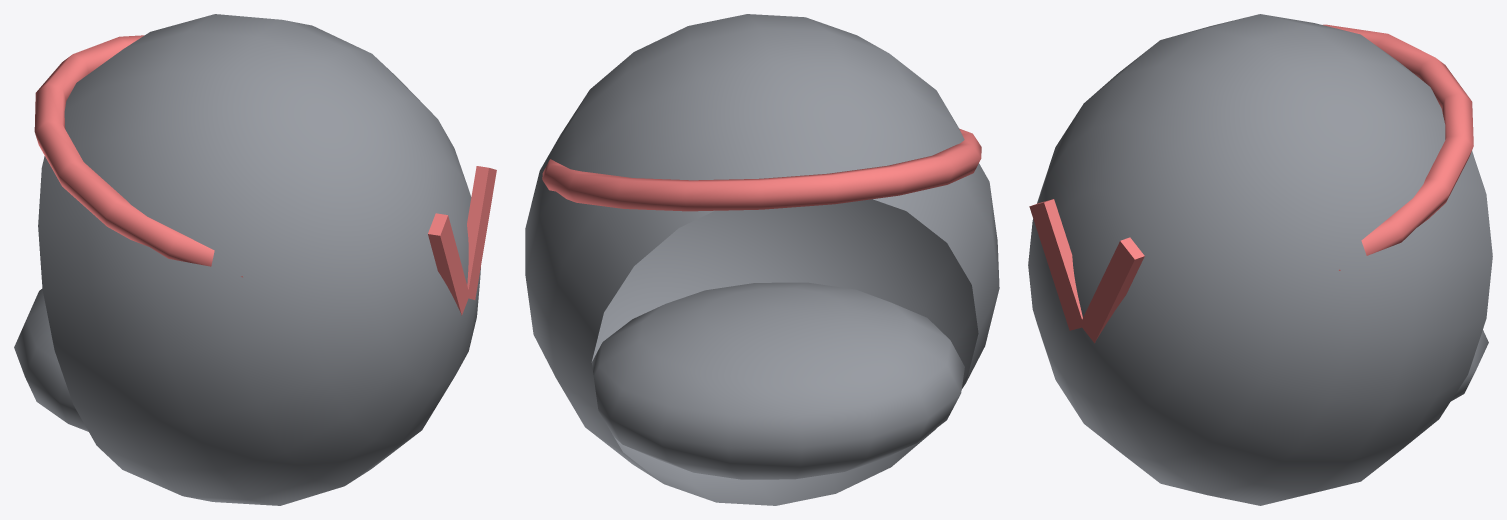
The model's file is dark_assassin_head.fbx.
The picture shows the model from 3 angles, left to right: view 1: azimuth 30°, elevation 25°; view 2: azimuth 150°, elevation 25°; view 3: azimuth 270°, elevation 25°; orthographic projection.
Parts seen in each view (by area): view 1: dark_assassin_head; view 2: dark_assassin_head; view 3: dark_assassin_head.
Boxes of the visible parts, <box> form: dark_assassin_head: <box>14,14,496,505</box>; dark_assassin_head: <box>525,14,999,505</box>; dark_assassin_head: <box>1028,14,1492,505</box>.
Bounding box in the file's own units: 1.44 × 1.5 × 1.42.
